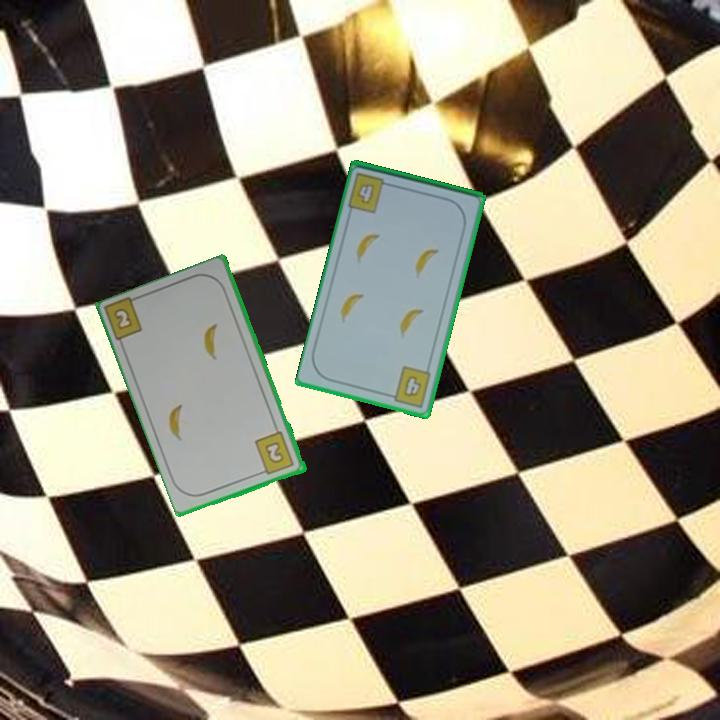2b: (252, 428, 297, 478), (110, 304, 136, 333)
4b: (345, 169, 396, 216), (385, 362, 434, 410)
